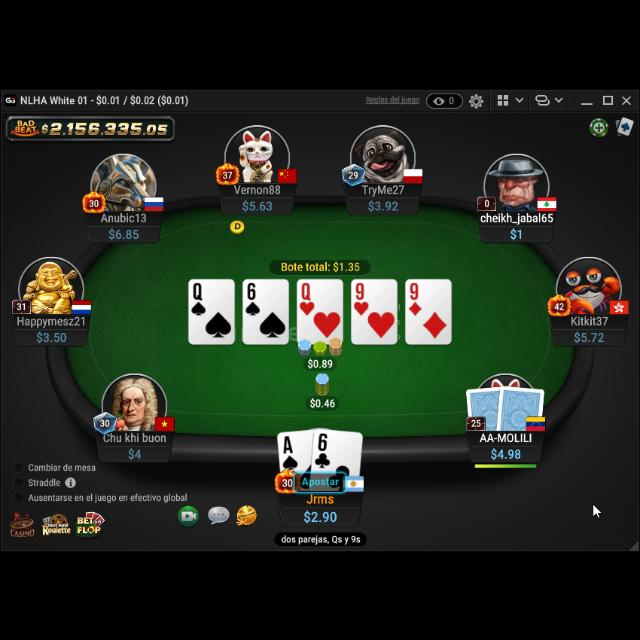6c: (312, 429, 333, 468)
6s: (245, 280, 261, 318)
9d: (406, 280, 424, 318)
9h: (352, 280, 370, 316)
As: (281, 433, 299, 471)
Qh: (298, 280, 316, 316)
Qs: (189, 280, 207, 318)
bet_text: (308, 394, 338, 410), (306, 355, 334, 367)
card_back: (495, 382, 547, 432), (464, 384, 506, 431)
dealer: (228, 215, 246, 232)
pot_text: (280, 258, 362, 272)
stack_text: (302, 504, 338, 524), (106, 223, 140, 239), (34, 328, 68, 342), (572, 328, 606, 342), (366, 197, 399, 211), (490, 445, 522, 459), (242, 197, 274, 211), (508, 224, 524, 238), (127, 444, 143, 458)
